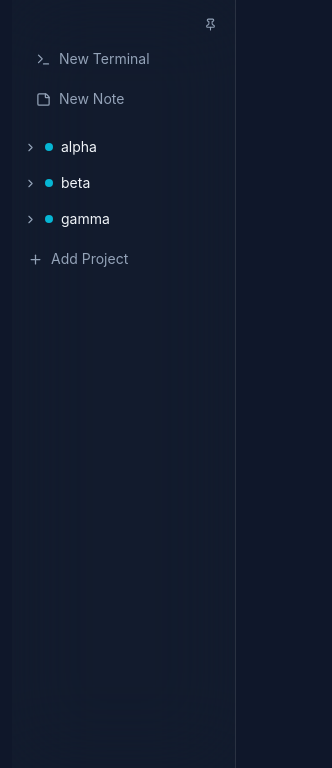
Test: Sidebar project reordering › moves a project up one slot from its context menu
This screenshot has width=332, height=768.
Right-click the button "beta" at point(96, 183), box [20, 165, 171, 201]
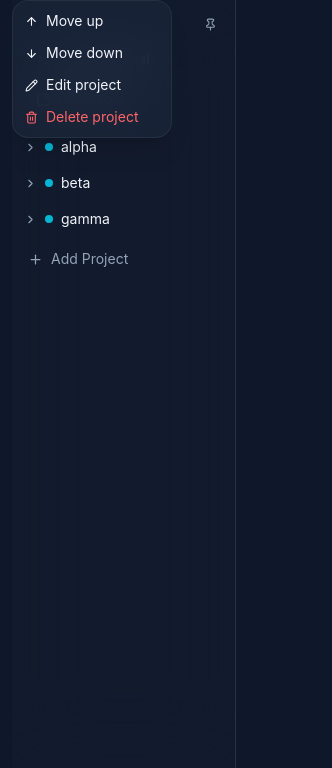
Click the button "Move up" at point(92, 21), box [13, 5, 171, 37]
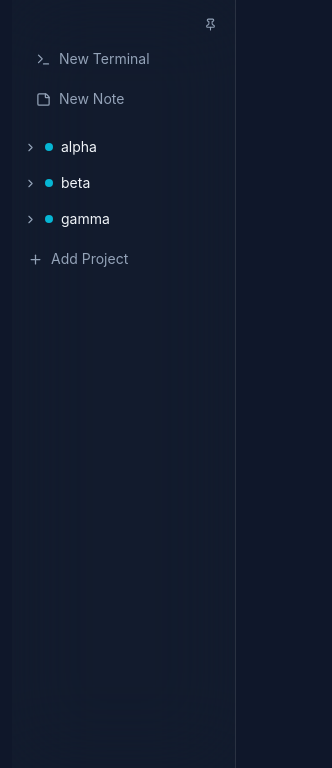
Now the button "Move up" is gone
